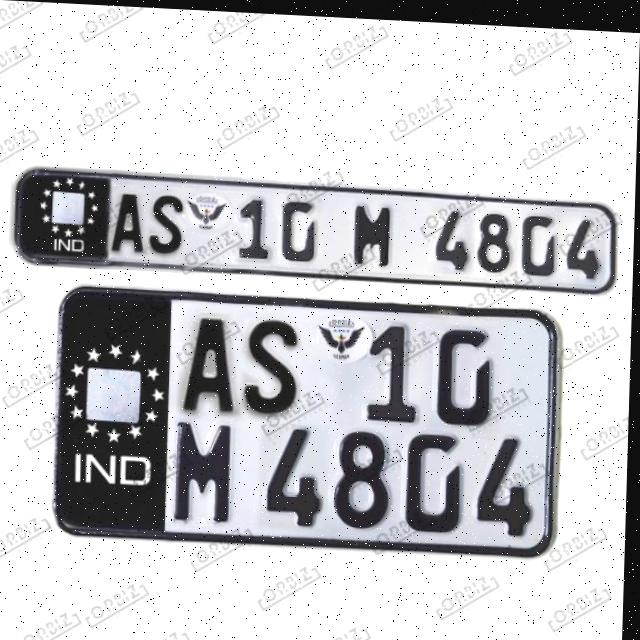plate: (52, 280, 567, 560), (10, 161, 625, 292)
